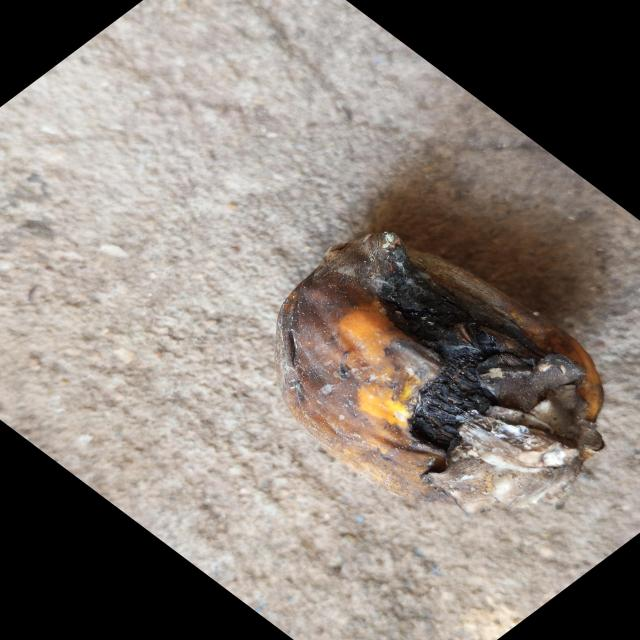damaged: (277, 232, 605, 487)
